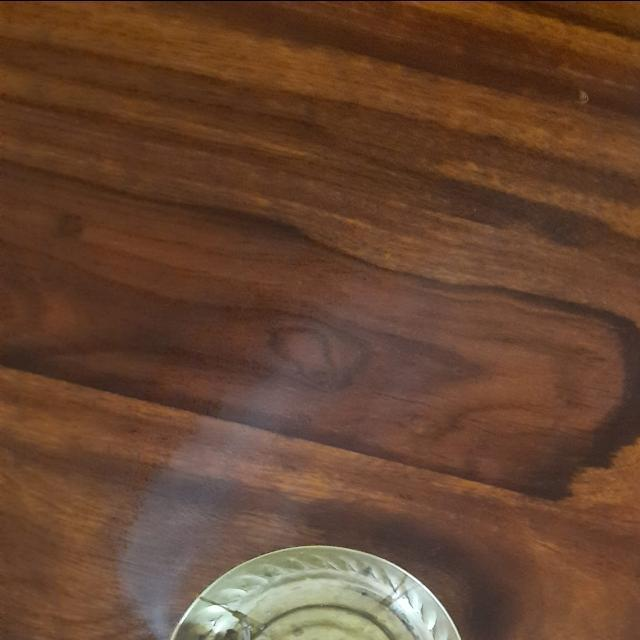fire: (74, 276, 420, 634)
